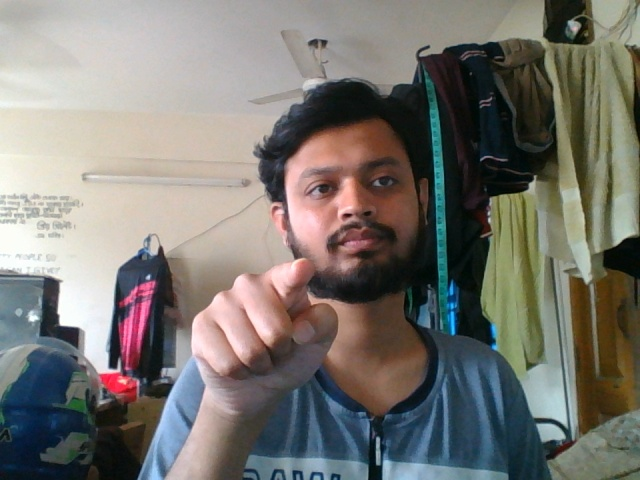tumi: (186, 252, 344, 441)
